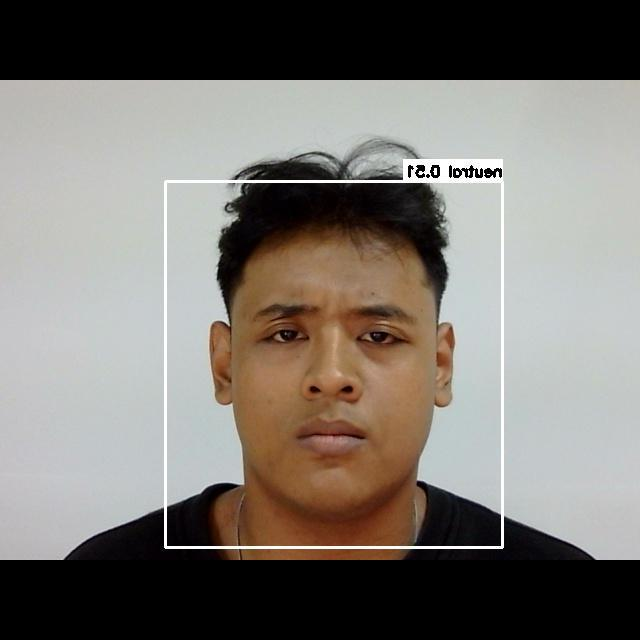Angry: (219, 265, 446, 492)
